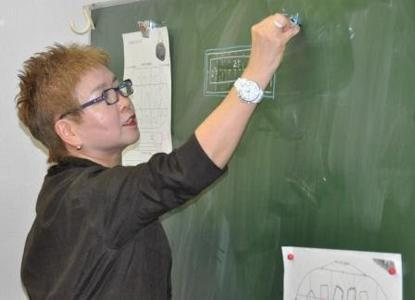person: (16, 16, 301, 300)
